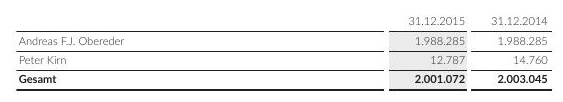table: (0, 0, 563, 102)
